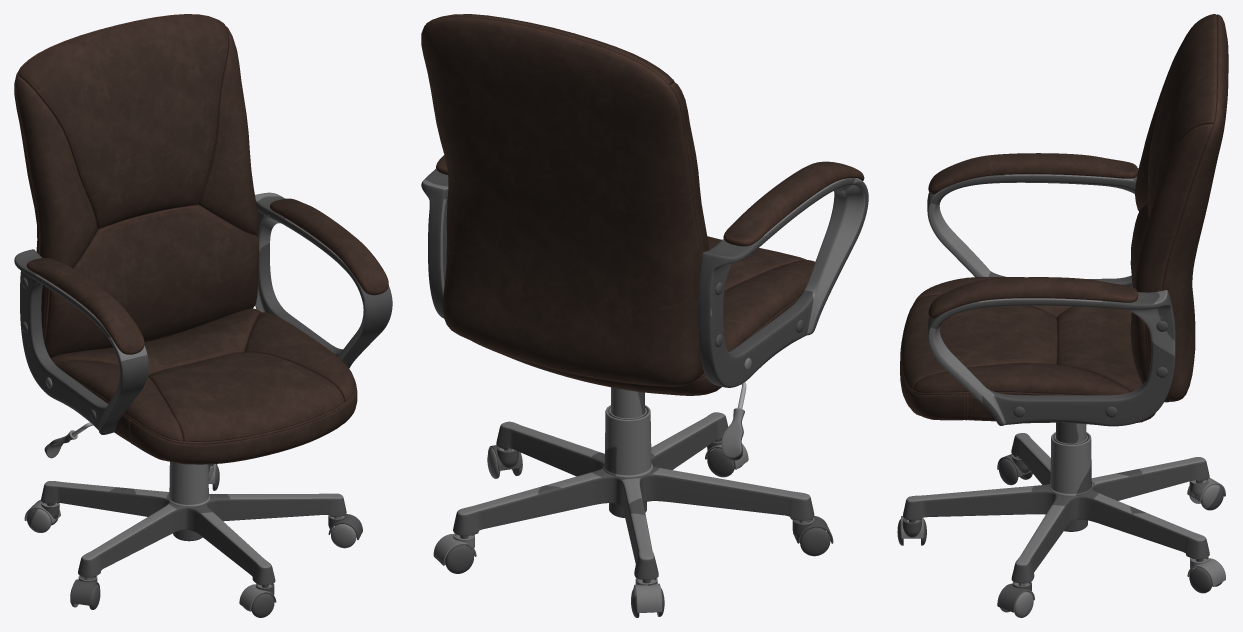
The model's file is chair.gltf.
3 renders of one model, left to right at view 1: azimuth 30°, elevation 25°; view 2: azimuth 150°, elevation 25°; view 3: azimuth 270°, elevation 25°, orthographic. The views are drawn at different scales.
Parts seen in each view (by area): view 1: leather, plastic; view 2: leather, plastic; view 3: leather, plastic.
Boxes of the visible parts, x1,y1,x2,y2 form: leather: (14, 14, 388, 464); plastic: (14, 192, 392, 617); leather: (421, 14, 864, 395); plastic: (421, 168, 868, 617); leather: (900, 14, 1228, 422); plastic: (897, 168, 1225, 617).
Size of the model in its own units: 0.625 by 0.981 by 0.587.
Materials: 3 (2 with a texture image).
